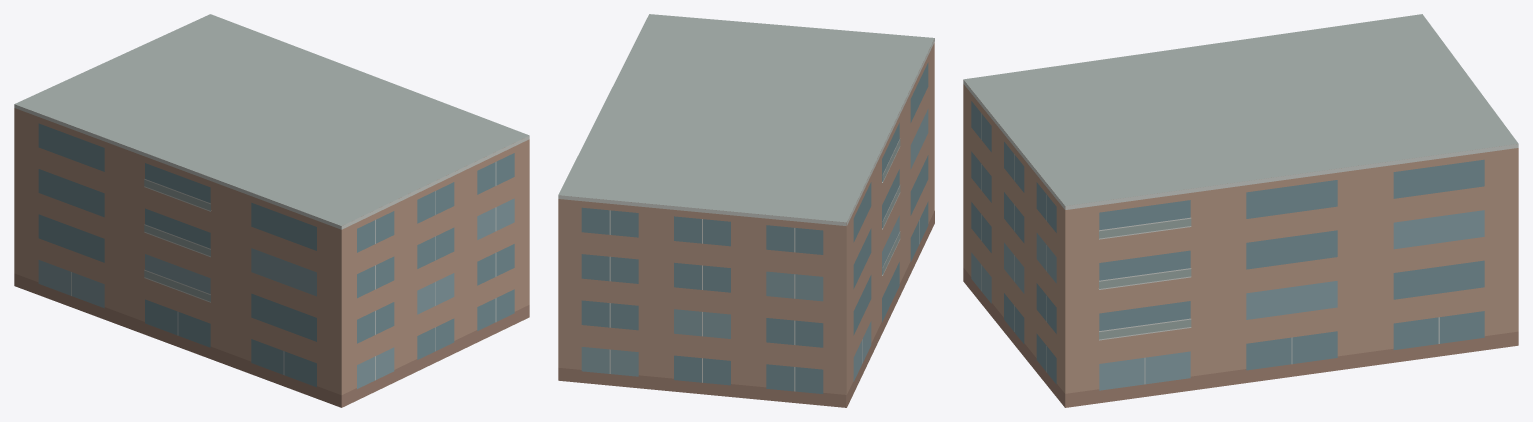
The model's file is survey-upis-32845654.glb.
3 views of the same model, side by side, from view 1: azimuth 30°, elevation 25°; view 2: azimuth 150°, elevation 25°; view 3: azimuth 270°, elevation 25° (orthographic). The views are drawn at different scales.
Visible parts, largest first — view 1: survey-upis-32845654.tmp; view 2: survey-upis-32845654.tmp; view 3: survey-upis-32845654.tmp.
Part boxes in pixels (left/top/right/bottom): survey-upis-32845654.tmp: left=14, top=14, right=529, bottom=407; survey-upis-32845654.tmp: left=558, top=14, right=934, bottom=407; survey-upis-32845654.tmp: left=963, top=14, right=1518, bottom=407.
Bounding box in the file's own units: 24.71 × 12.1 × 30.19.
